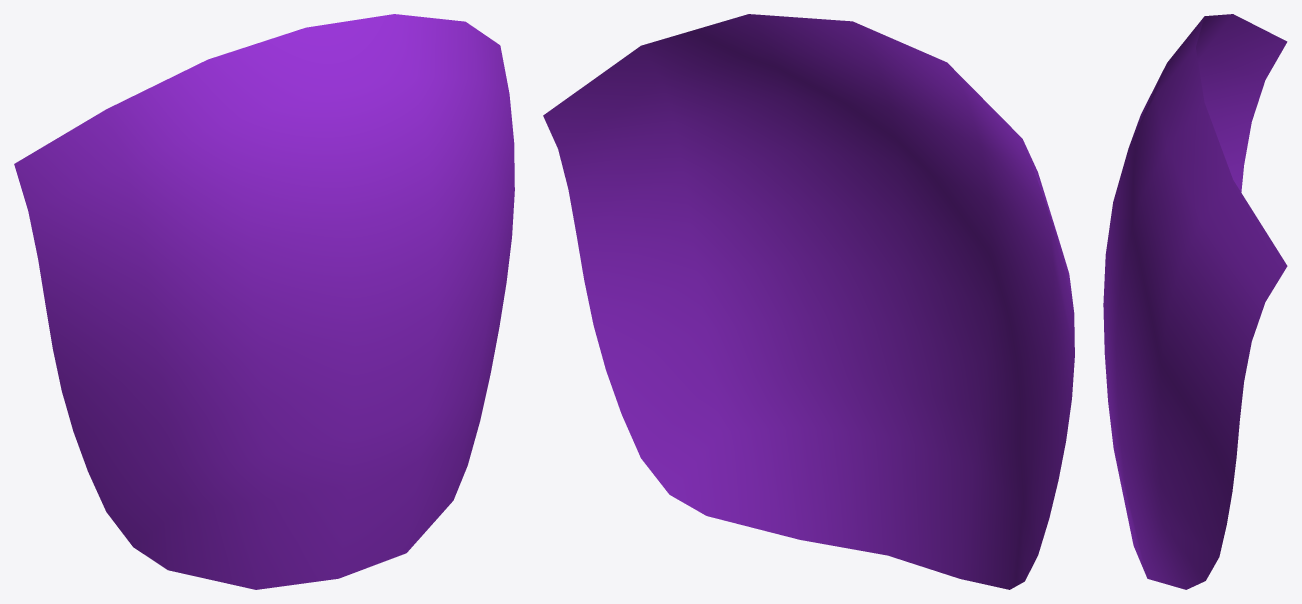
3 renders of one model, left to right at view 1: azimuth 30°, elevation 25°; view 2: azimuth 150°, elevation 25°; view 3: azimuth 270°, elevation 25°, orthographic. The views are drawn at different scales.
Parts seen in each view (by area): view 1: Face; view 2: Face; view 3: Face.
Part boxes in pixels (x1=…): Face: x1=14, y1=14, x2=514, y2=589; Face: x1=543, y1=14, x2=1074, y2=589; Face: x1=1103, y1=14, x2=1287, y2=589.
Bounding box in the file's own units: 13.7 × 14.18 × 4.75.
